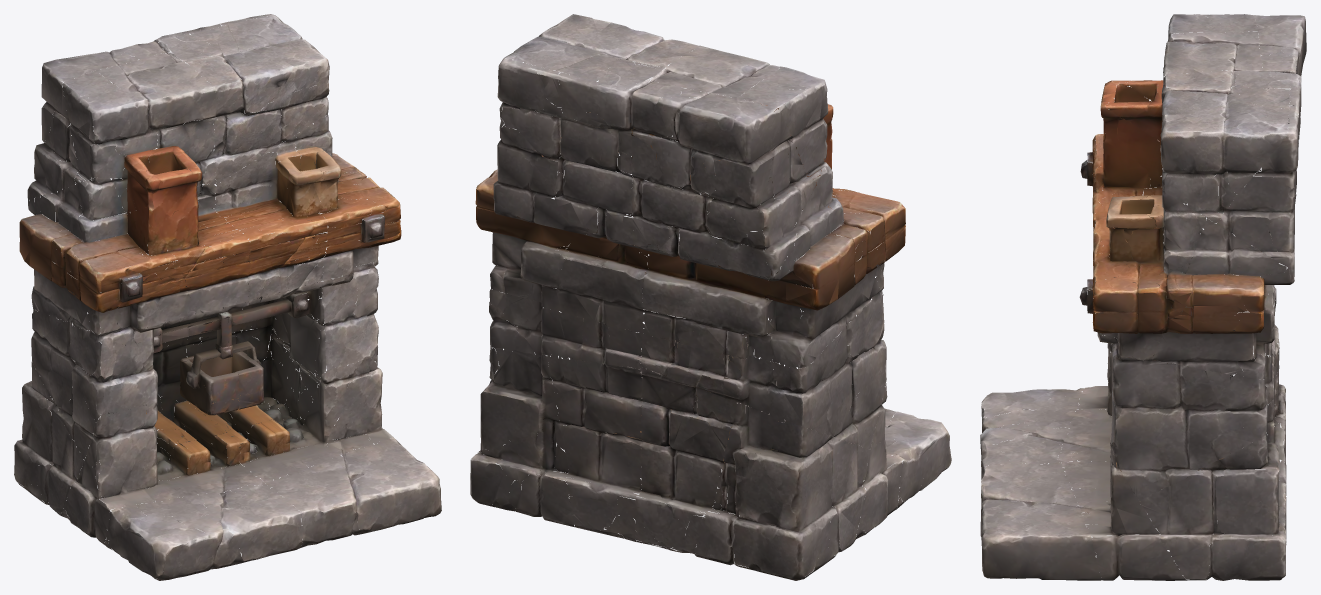
File: hearth.glb
3 views of the same model, side by side, from view 1: azimuth 30°, elevation 25°; view 2: azimuth 150°, elevation 25°; view 3: azimuth 270°, elevation 25° (orthographic). The views are drawn at different scales.
Parts seen in each view (by area): view 1: tripo_node_5079068c-574a-4515-af27-c7905ec5c1a2; view 2: tripo_node_5079068c-574a-4515-af27-c7905ec5c1a2; view 3: tripo_node_5079068c-574a-4515-af27-c7905ec5c1a2.
Part boxes in pixels (<box>): tripo_node_5079068c-574a-4515-af27-c7905ec5c1a2: <box>14,14,441,580</box>; tripo_node_5079068c-574a-4515-af27-c7905ec5c1a2: <box>470,14,951,580</box>; tripo_node_5079068c-574a-4515-af27-c7905ec5c1a2: <box>980,14,1306,580</box>.
Bounding box in the file's own units: 0.7783 × 0.9804 × 0.6644.
1 material, 1 textured.
